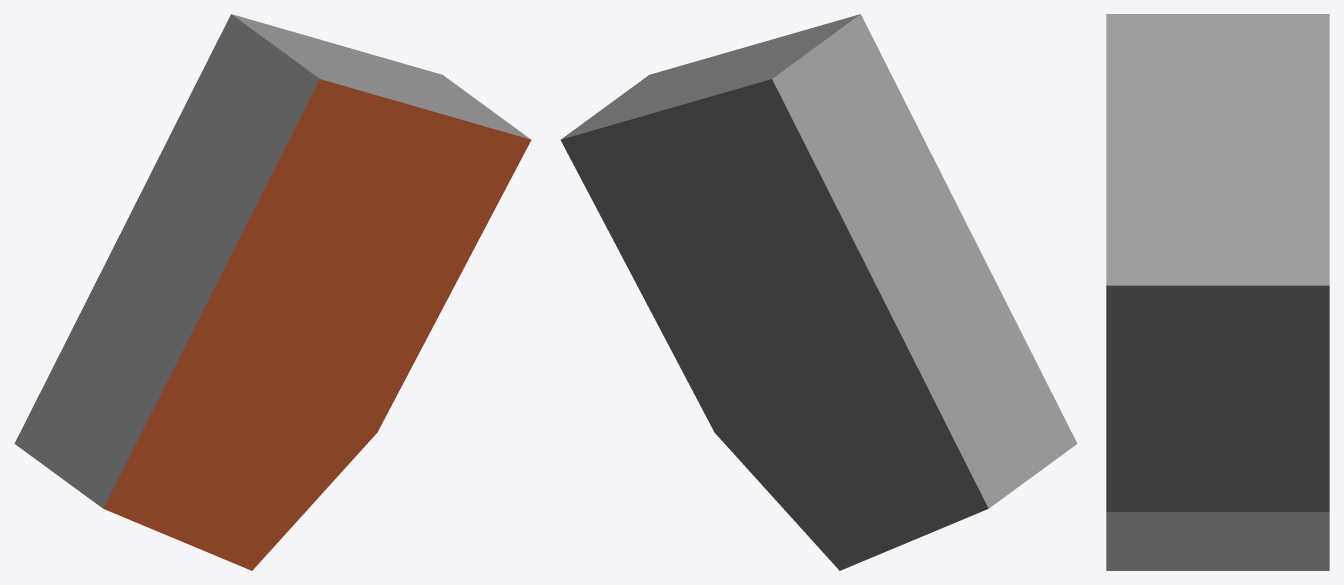
File: construction_4437_assumed_A_Casa_h6m.obj
3 renders of one model, left to right at view 1: azimuth 30°, elevation 25°; view 2: azimuth 150°, elevation 25°; view 3: azimuth 270°, elevation 25°, orthographic. The views are drawn at different scales.
Parts seen in each view (by area): view 1: construction_4437_assumed_A_Casa; view 2: construction_4437_assumed_A_Casa; view 3: construction_4437_assumed_A_Casa.
Boxes of the visible parts, x1=… form: construction_4437_assumed_A_Casa: x1=14, y1=14, x2=531, y2=570; construction_4437_assumed_A_Casa: x1=560, y1=14, x2=1077, y2=570; construction_4437_assumed_A_Casa: x1=1106, y1=14, x2=1329, y2=570.
Size of the model in its own units: 16.71 by 17.73 by 6.
